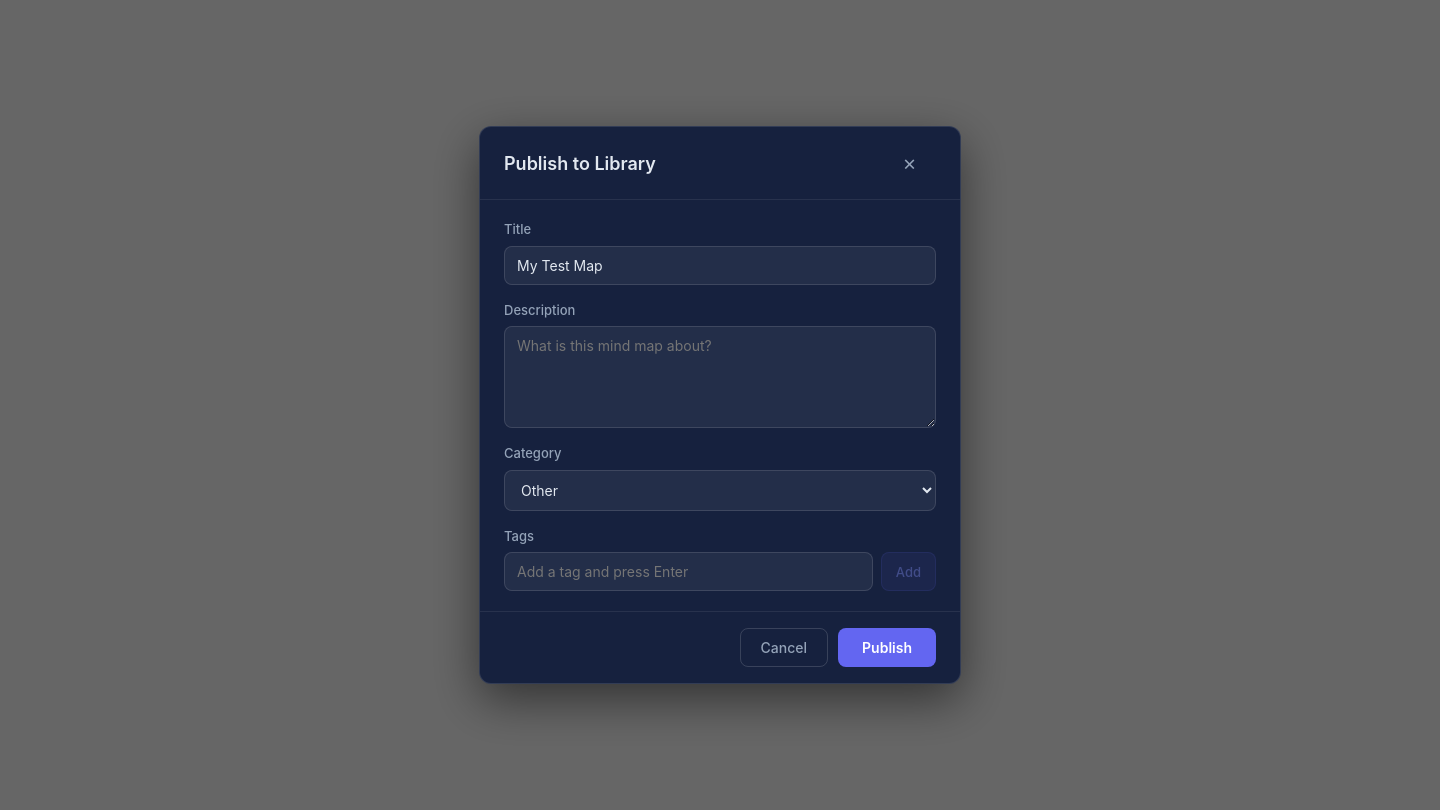
it: PublishModal › tag input: add tag via Add button
Type "javascript" into the field with placeholder "Add a tag and press Enter".
click(688, 572); type("javascript")  # box [504,552,873,591]
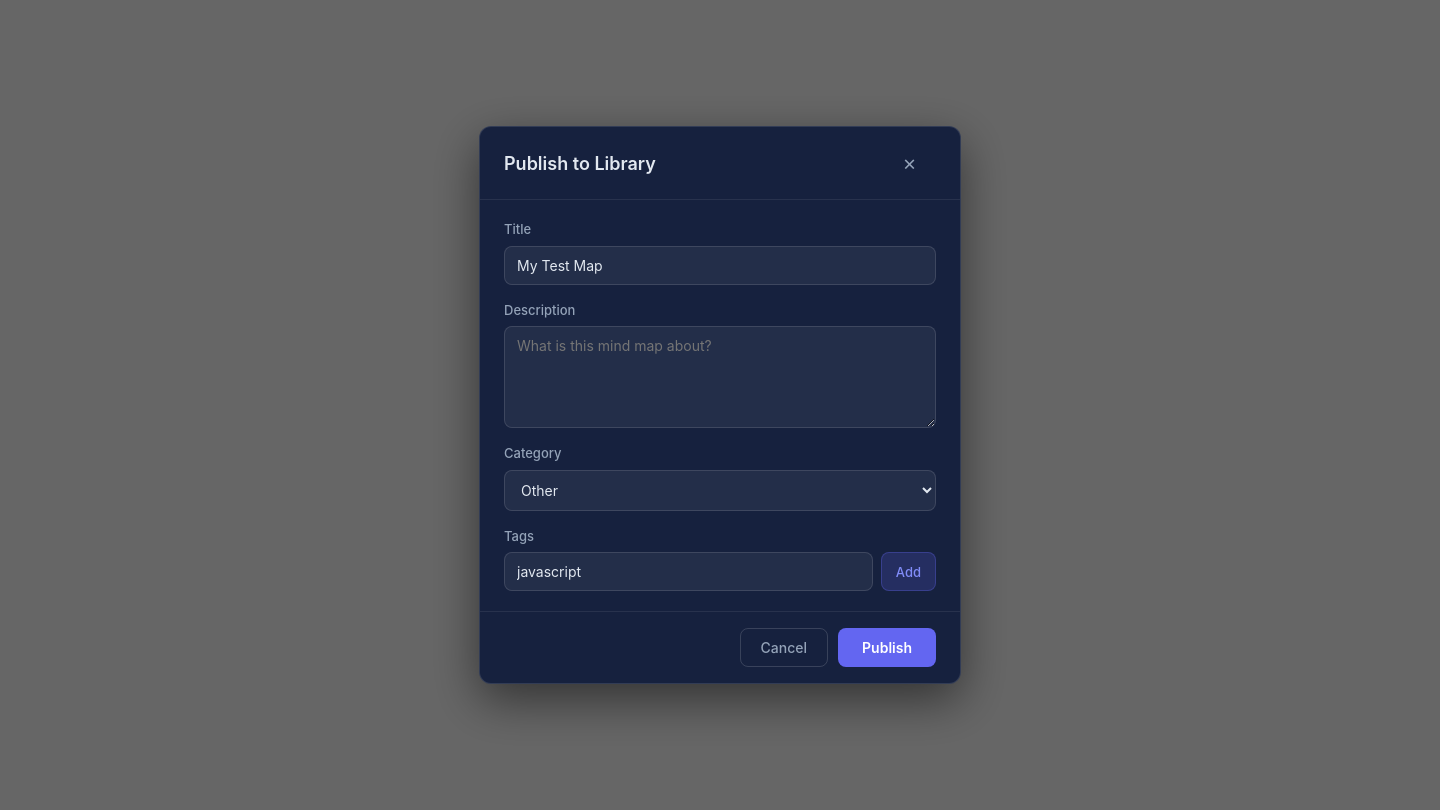
Click the button "Add".
click(908, 572)  # box [881,552,936,591]
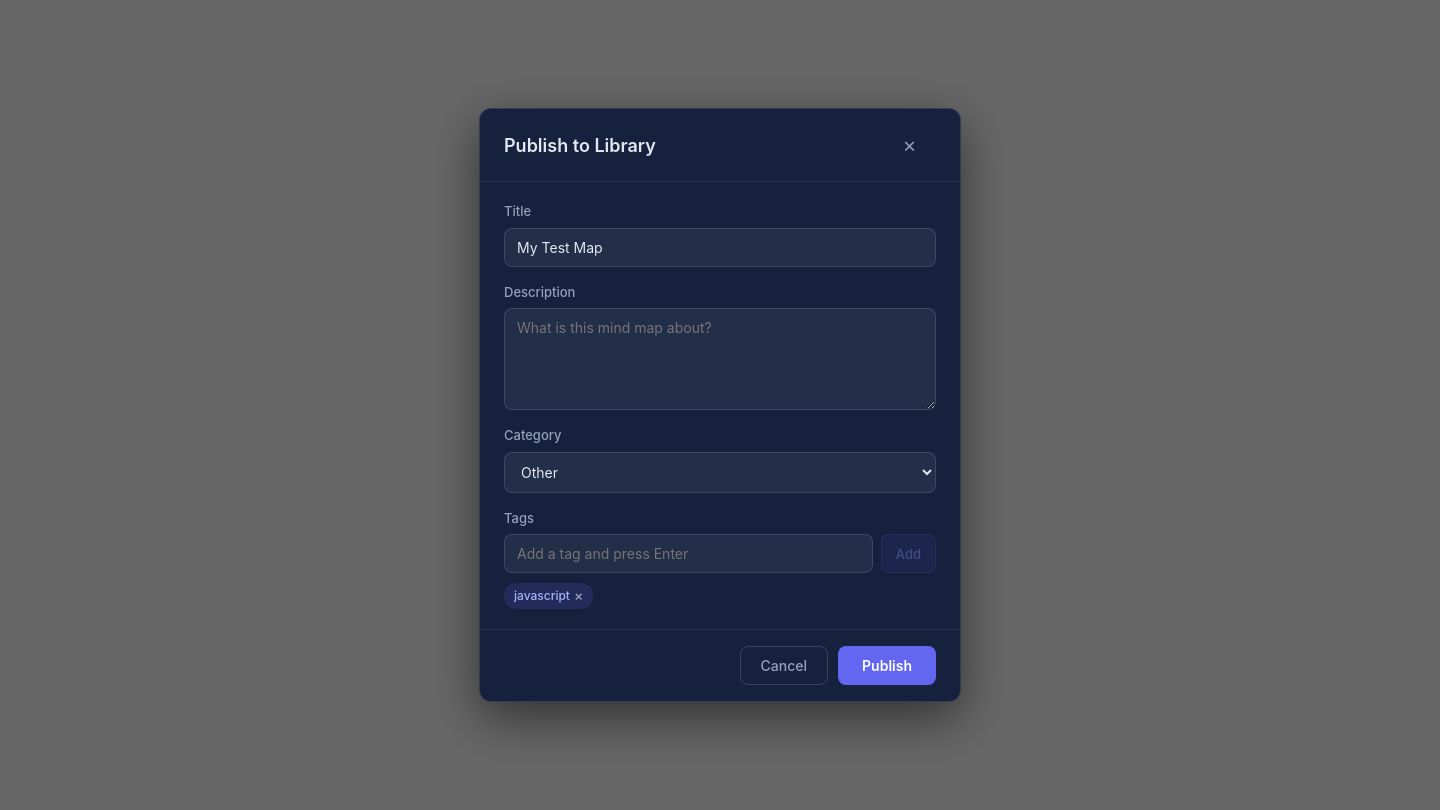
Check: the text "javascript" is shown, box [514,588,570,603]
